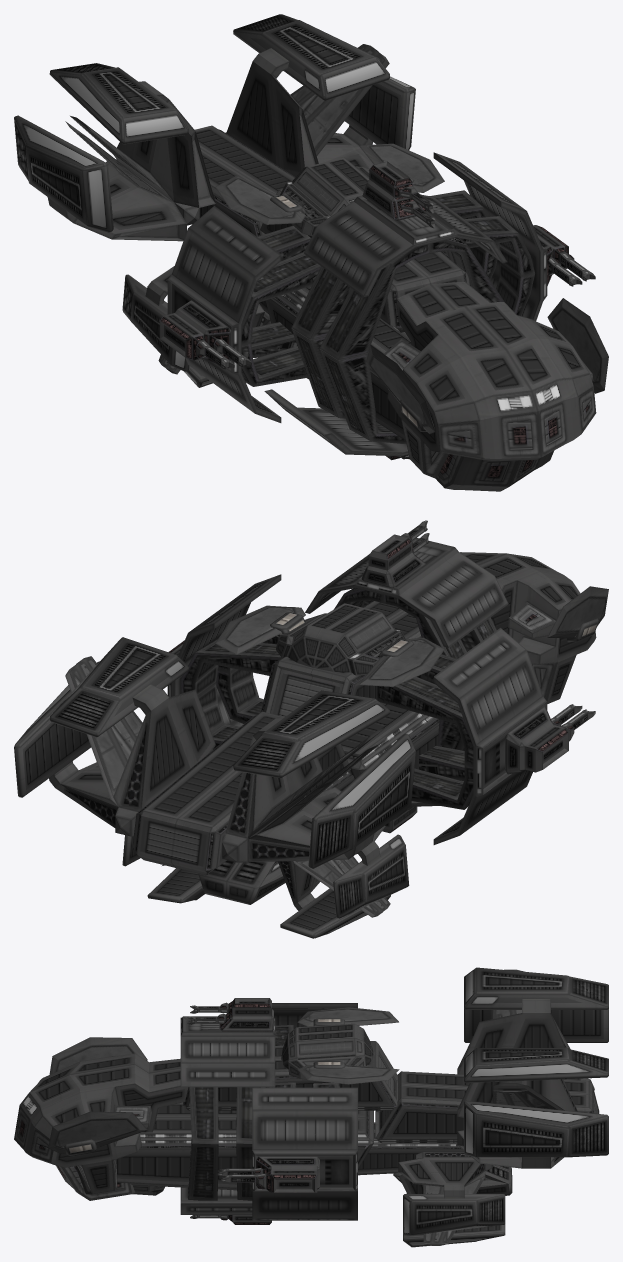
File: omegaisTioBattleshipB.FBX
3 views of the same model, one above another, from view 1: azimuth 30°, elevation 25°; view 2: azimuth 150°, elevation 25°; view 3: azimuth 270°, elevation 25° (orthographic). The views are drawn at different scales.
Visible parts, largest first — view 1: BattleshipB; view 2: BattleshipB; view 3: BattleshipB.
Boxes of the visible parts, x1,y1,x2,y2 form: BattleshipB: (14, 14, 608, 491); BattleshipB: (14, 520, 608, 938); BattleshipB: (14, 967, 608, 1247).
Bounding box in the file's own units: 683 × 1162 × 474.
